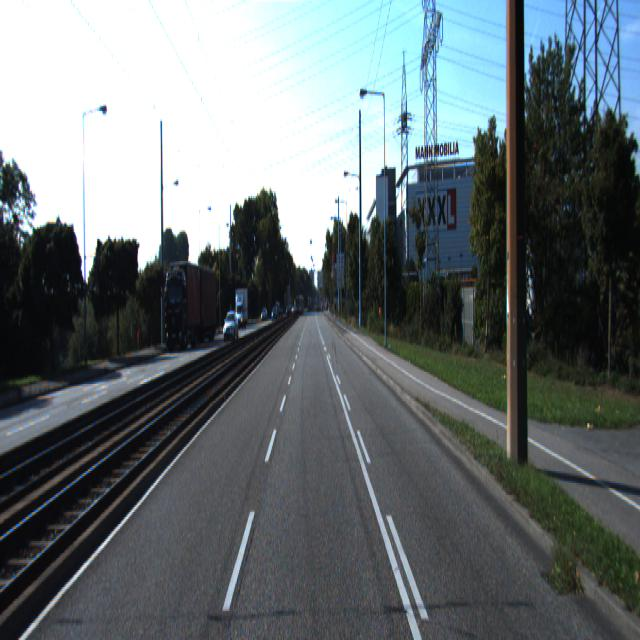Car: (162, 259, 202, 354), (187, 266, 217, 348), (222, 311, 240, 343)
